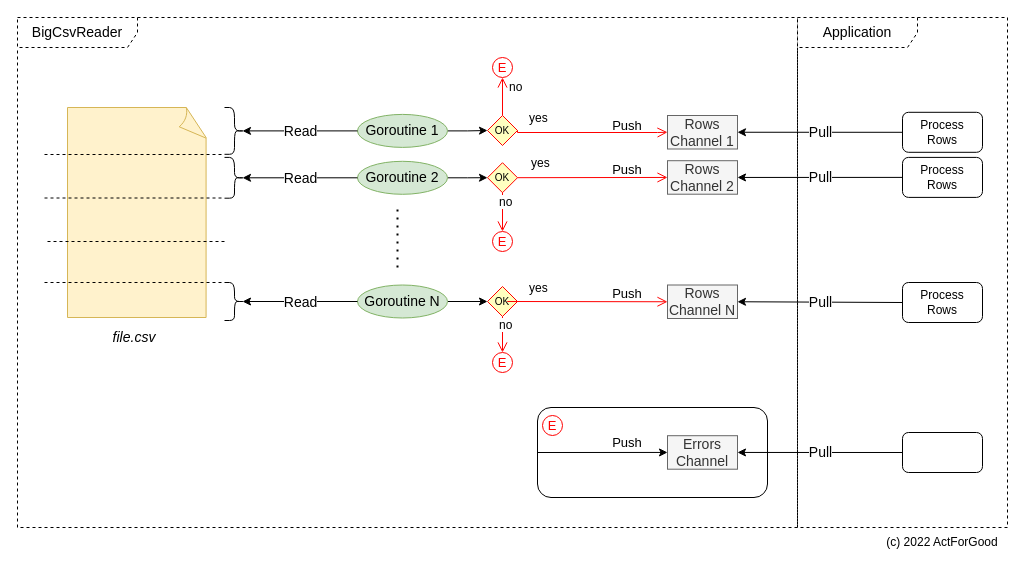
Some shapes in this 1030 by 575 pixel diagram are drawn without their labels. Each missing label, with the centre of its shape:
Process Errors: the point at 942,452
row/header row row row row row row row row row row row row: the point at 137,212
